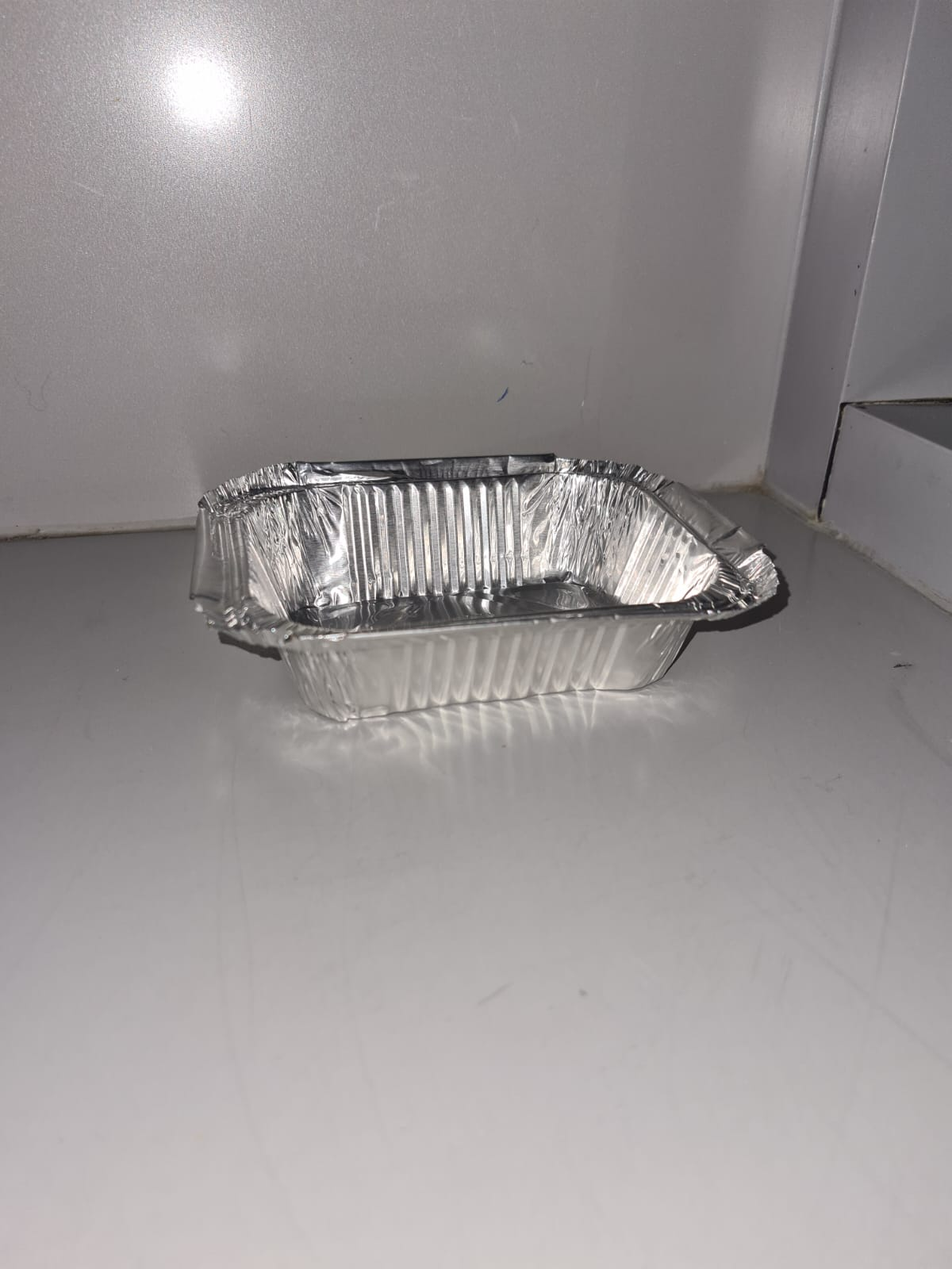Metal: (183, 439, 782, 735)
